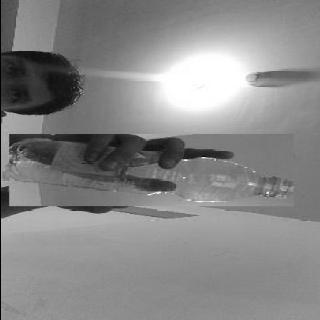plastic_bottles: (9, 134, 292, 206)
